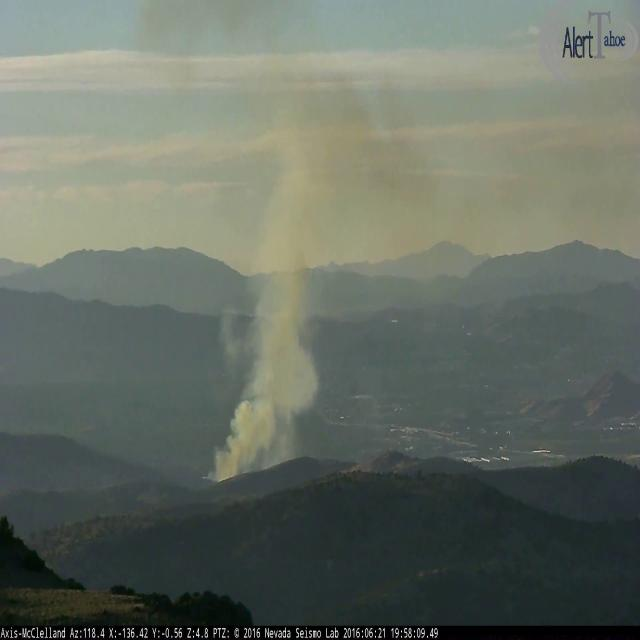smoke: (133, 3, 510, 484), (509, 78, 638, 250)
